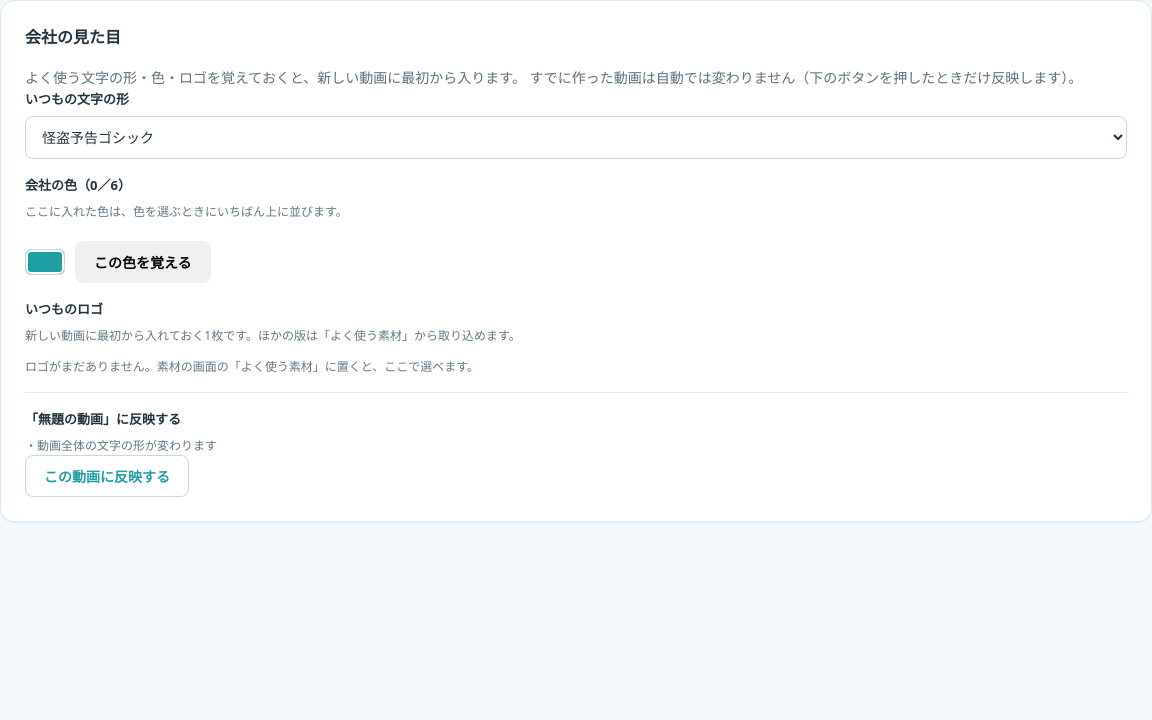
Test case: BrandKitSection › 何も入らずに失敗したら理由だけ出す（戻すものが無い）
The width and height of the screenshot is (1152, 720).
Step 1. Click the button "この動画に反映する" → (107, 476), box [25,455,189,497]
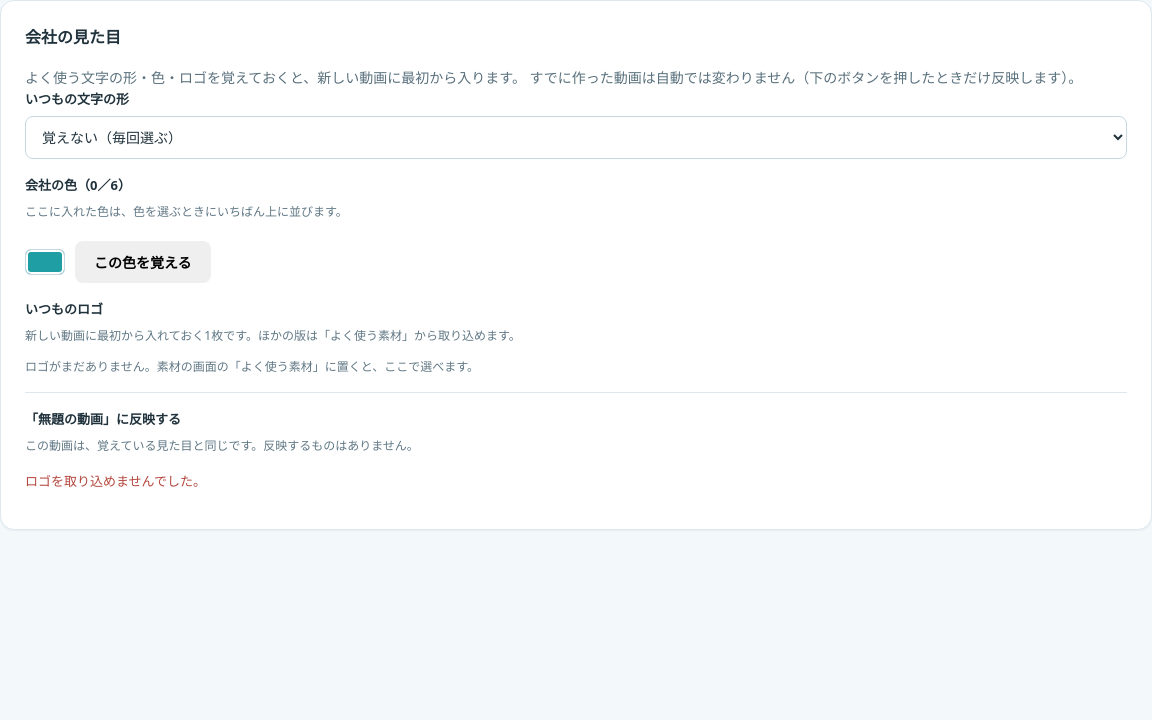
Expected: the text "ロゴを取り込めませんでした。" is shown, [25,472,206,490]
